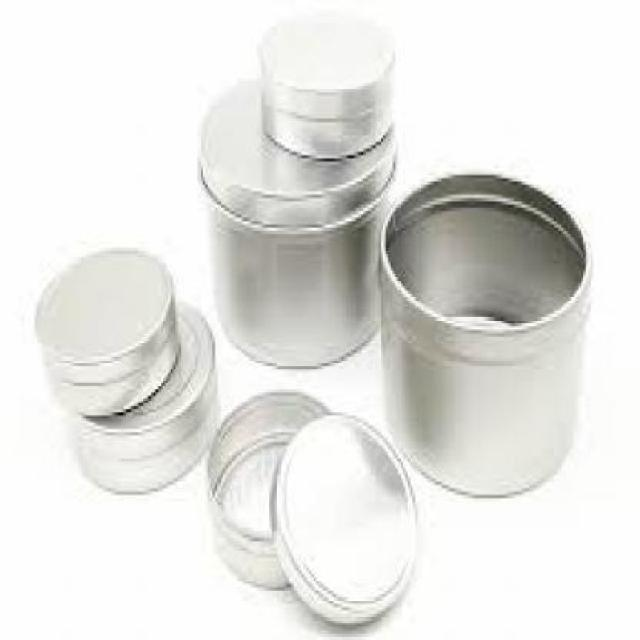METAL: (372, 167, 591, 498), (195, 72, 391, 366), (267, 405, 415, 624), (72, 297, 215, 488), (206, 389, 332, 588), (34, 247, 180, 416), (257, 10, 395, 152)
